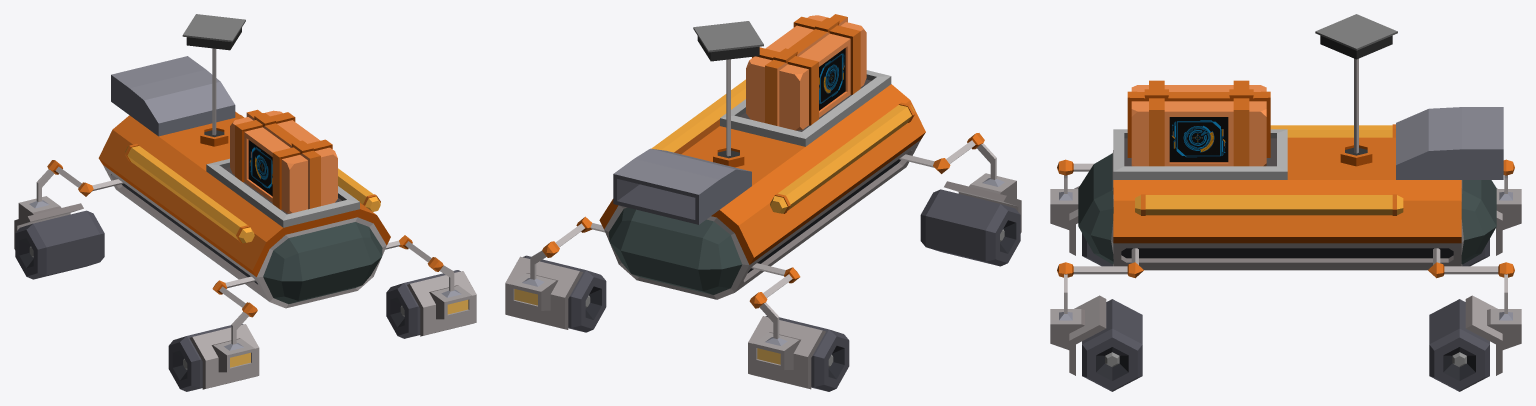
The model's file is Rover_01.glb.
3 views of the same model, side by side, from view 1: azimuth 30°, elevation 25°; view 2: azimuth 150°, elevation 25°; view 3: azimuth 270°, elevation 25° (orthographic). The views are drawn at different scales.
Parts seen in each view (by area): view 1: Rover_01; view 2: Rover_01; view 3: Rover_01.
Part boxes in pixels (bbox=[...]): Rover_01: bbox=[14, 14, 476, 391]; Rover_01: bbox=[505, 14, 1021, 391]; Rover_01: bbox=[1050, 14, 1521, 391].
Size of what is drawn, in the model's own units: 1.23 by 1.04 by 1.55.
2 materials, 2 textured.
